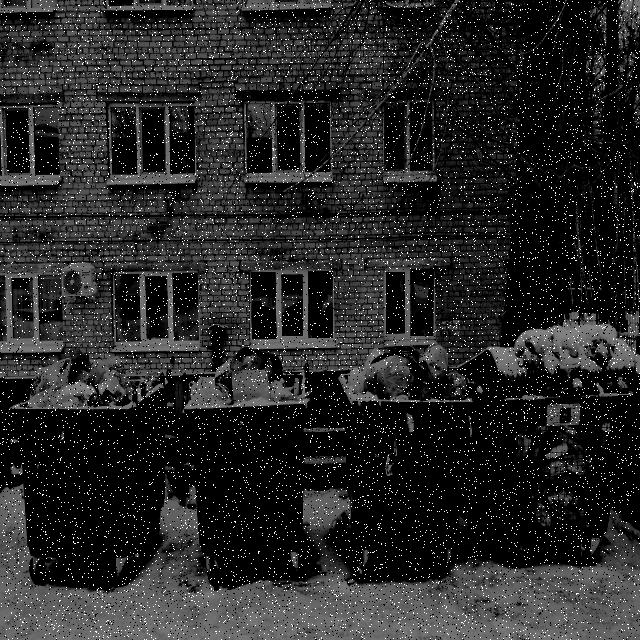Trashcan: (464, 307, 640, 583), (4, 339, 181, 594), (166, 337, 332, 600), (321, 317, 479, 591)
